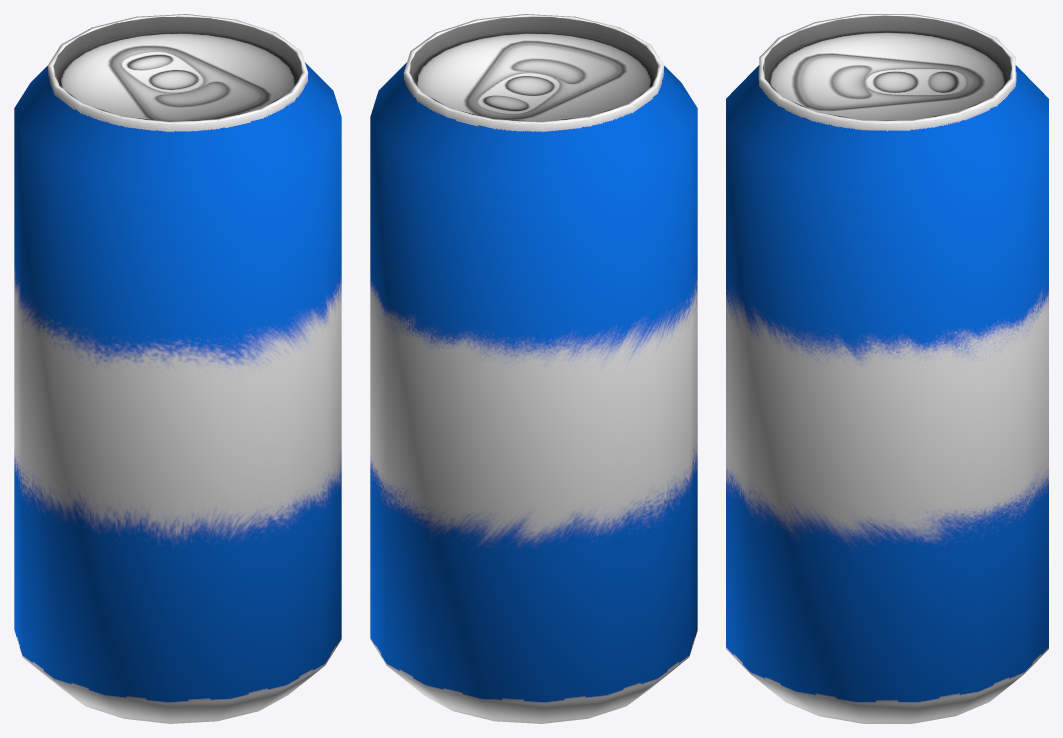
The model's file is sodablue.glb.
3 views of the same model, side by side, from view 1: azimuth 30°, elevation 25°; view 2: azimuth 150°, elevation 25°; view 3: azimuth 270°, elevation 25° (orthographic).
Visible parts, largest first — view 1: sodablue; view 2: sodablue; view 3: sodablue.
Part boxes in pixels (x1,y1,x2,y2): sodablue: (14,14,341,723); sodablue: (370,14,697,723); sodablue: (726,14,1048,723).
Bounding box in the file's own units: 0.5842 × 1.21 × 0.5842.
1 material, 1 textured.
